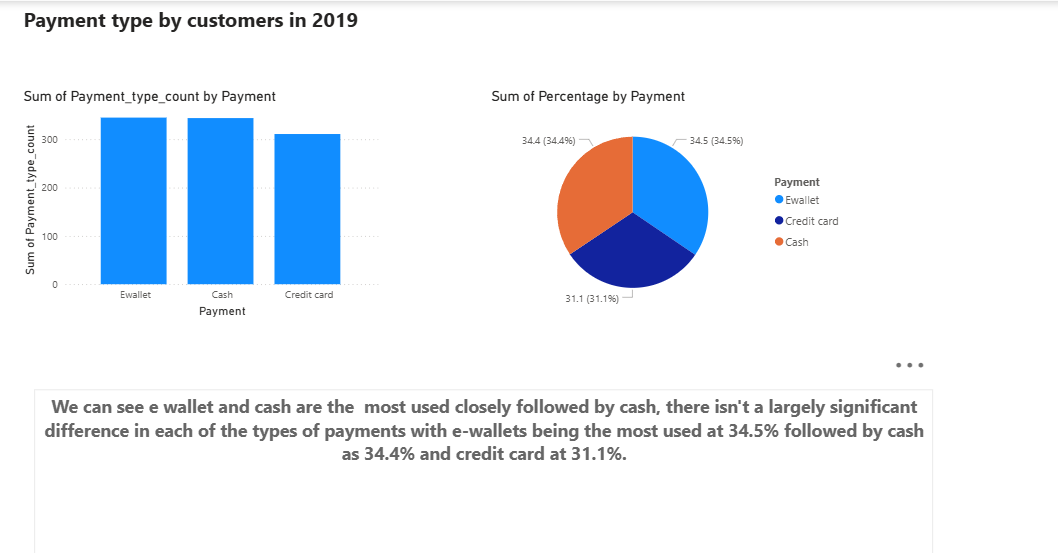

This screenshot's page, from the dashboard's own definition file:
{"tool":"powerbi","page":{"name":"Page 3","canvas":[1280,720],"ordinal":2},"visuals":[{"type":"pieChart","fields":{"Category":["payment type.Payment"],"Y":["Sum(payment type.Percentage)"]},"box":[586.3,103.9,437.3,280.4],"z":0},{"type":"clusteredColumnChart","fields":{"Y":["Sum(payment type.Payment_type_count)"],"Category":["payment type.Payment"]},"box":[25.5,103.9,437.3,280.4],"z":1000},{"type":"textbox","box":[25.5,0,884.3,60.8],"z":1001},{"type":"textbox","box":[41.2,466.7,1082.4,207.8],"z":1002}]}

Visuals, with their boxes on the page's 1280x720 design canvas (x1, y1, x2, y2). These are canvas units, not pixel positions in the 1058x553 screenshot, which may show the page scaled, cropped or inside an application window:
pieChart - payment type.Payment x Sum(payment type.Percentage): 586:104:1024:384
clusteredColumnChart - Sum(payment type.Payment_type_count) x payment type.Payment: 26:104:463:384
textbox: 26:0:910:61
textbox: 41:467:1124:674
